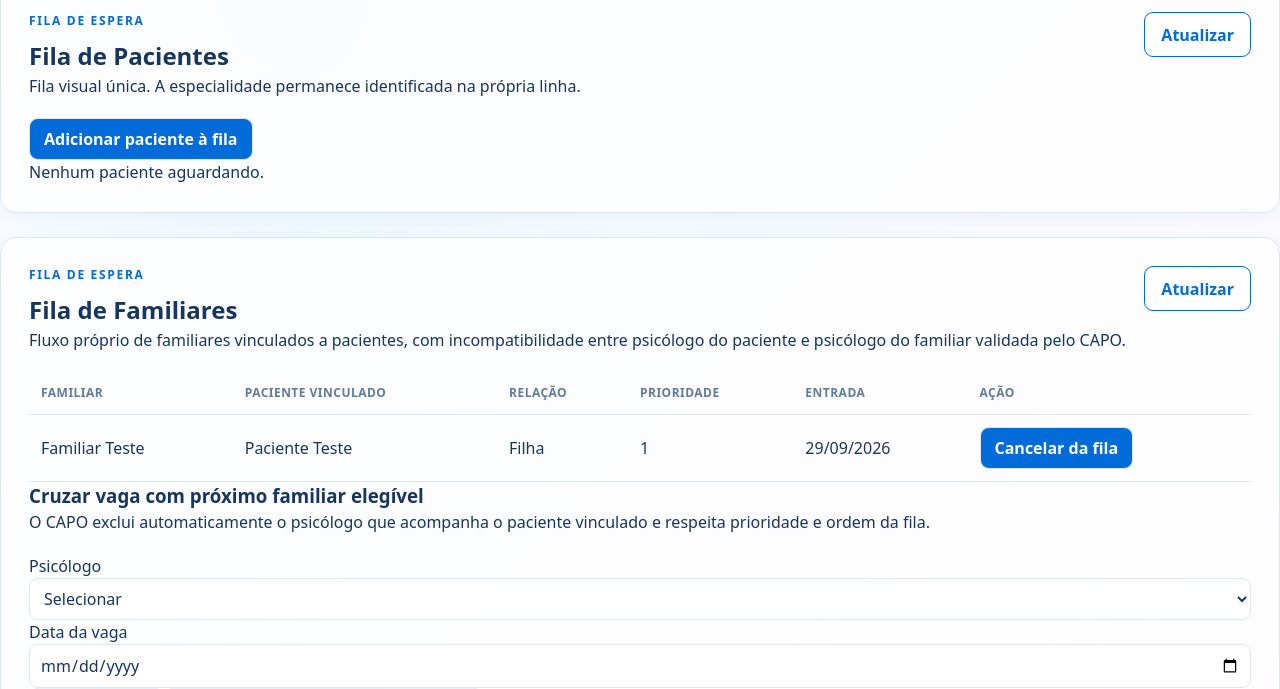
Test: cancela familiar da fila ativa com motivo e preserva o vínculo
The width and height of the screenshot is (1280, 689).
Click the button "Cancelar da fila".
click(1056, 448)  # box [980, 427, 1133, 469]
(page scrolled)
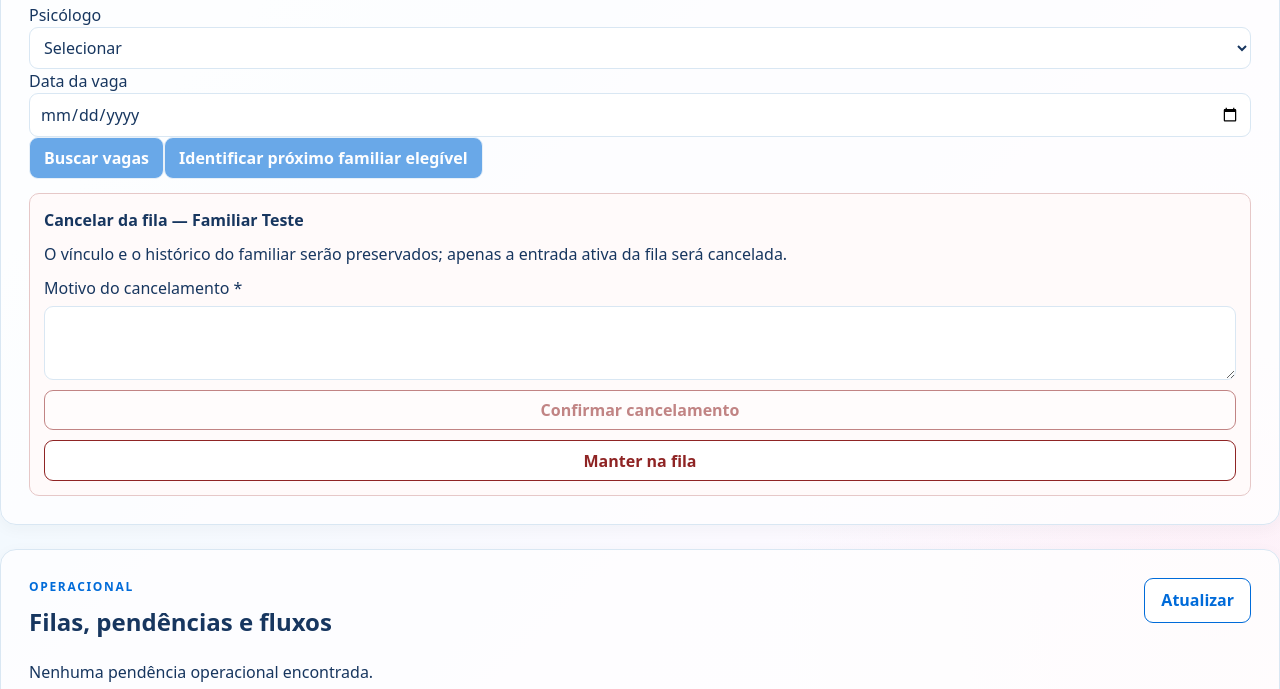
Type "Familiar não deseja permanecer" into the text box labelled "Motivo do cancelamento *".
click(640, 343); type("Familiar não deseja permanecer")  # box [44, 306, 1236, 380]
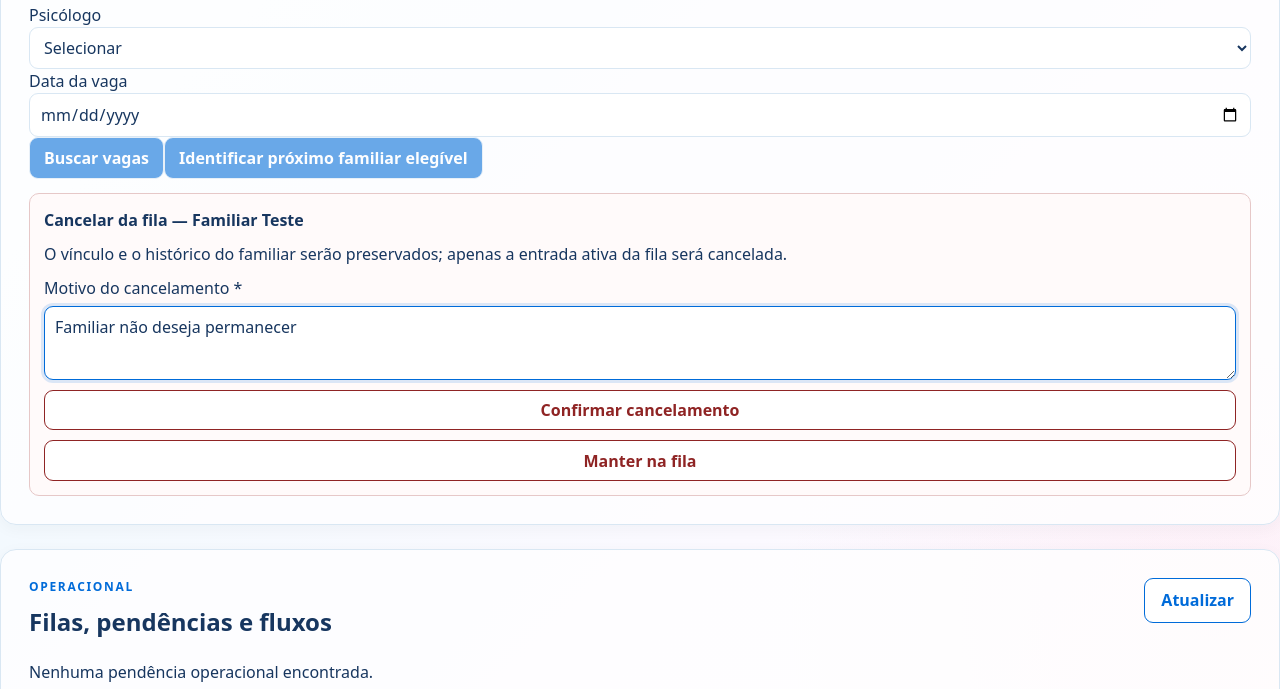
Click the button "Confirmar cancelamento".
click(640, 410)  # box [44, 390, 1236, 430]
(page scrolled)
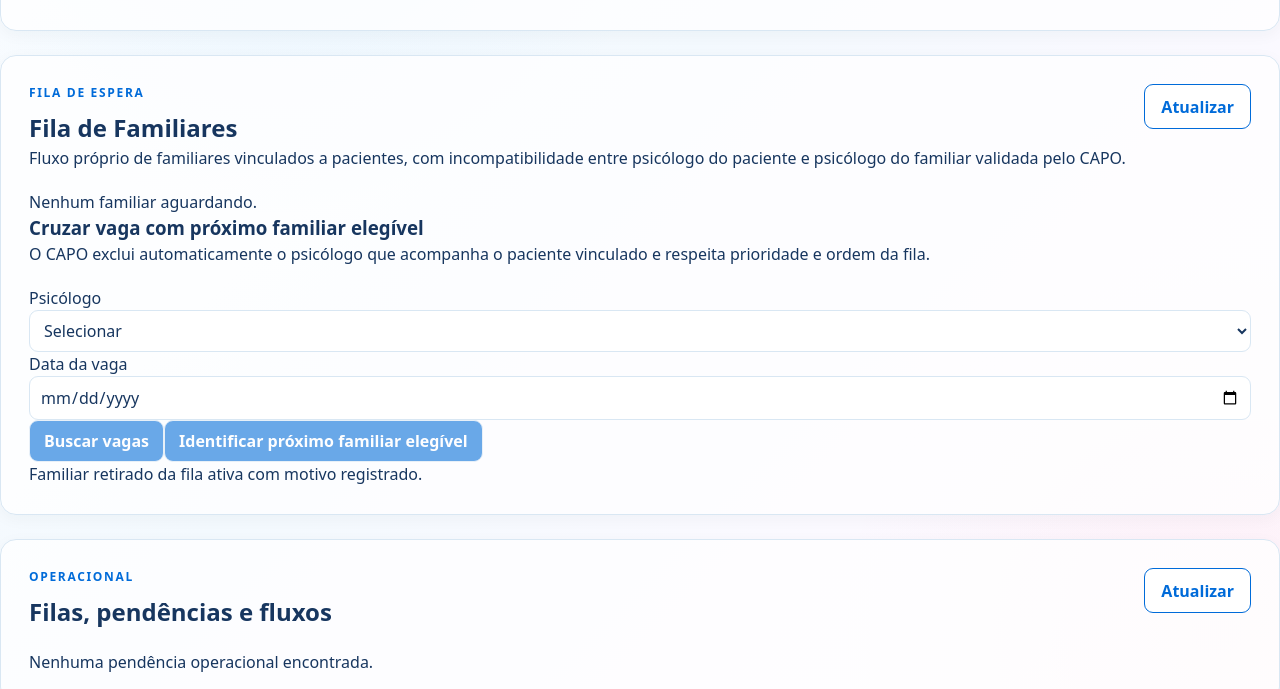
Expected: the text "Familiar retirado da fila ativa com motivo registrado." is shown, [29, 463, 422, 485]
